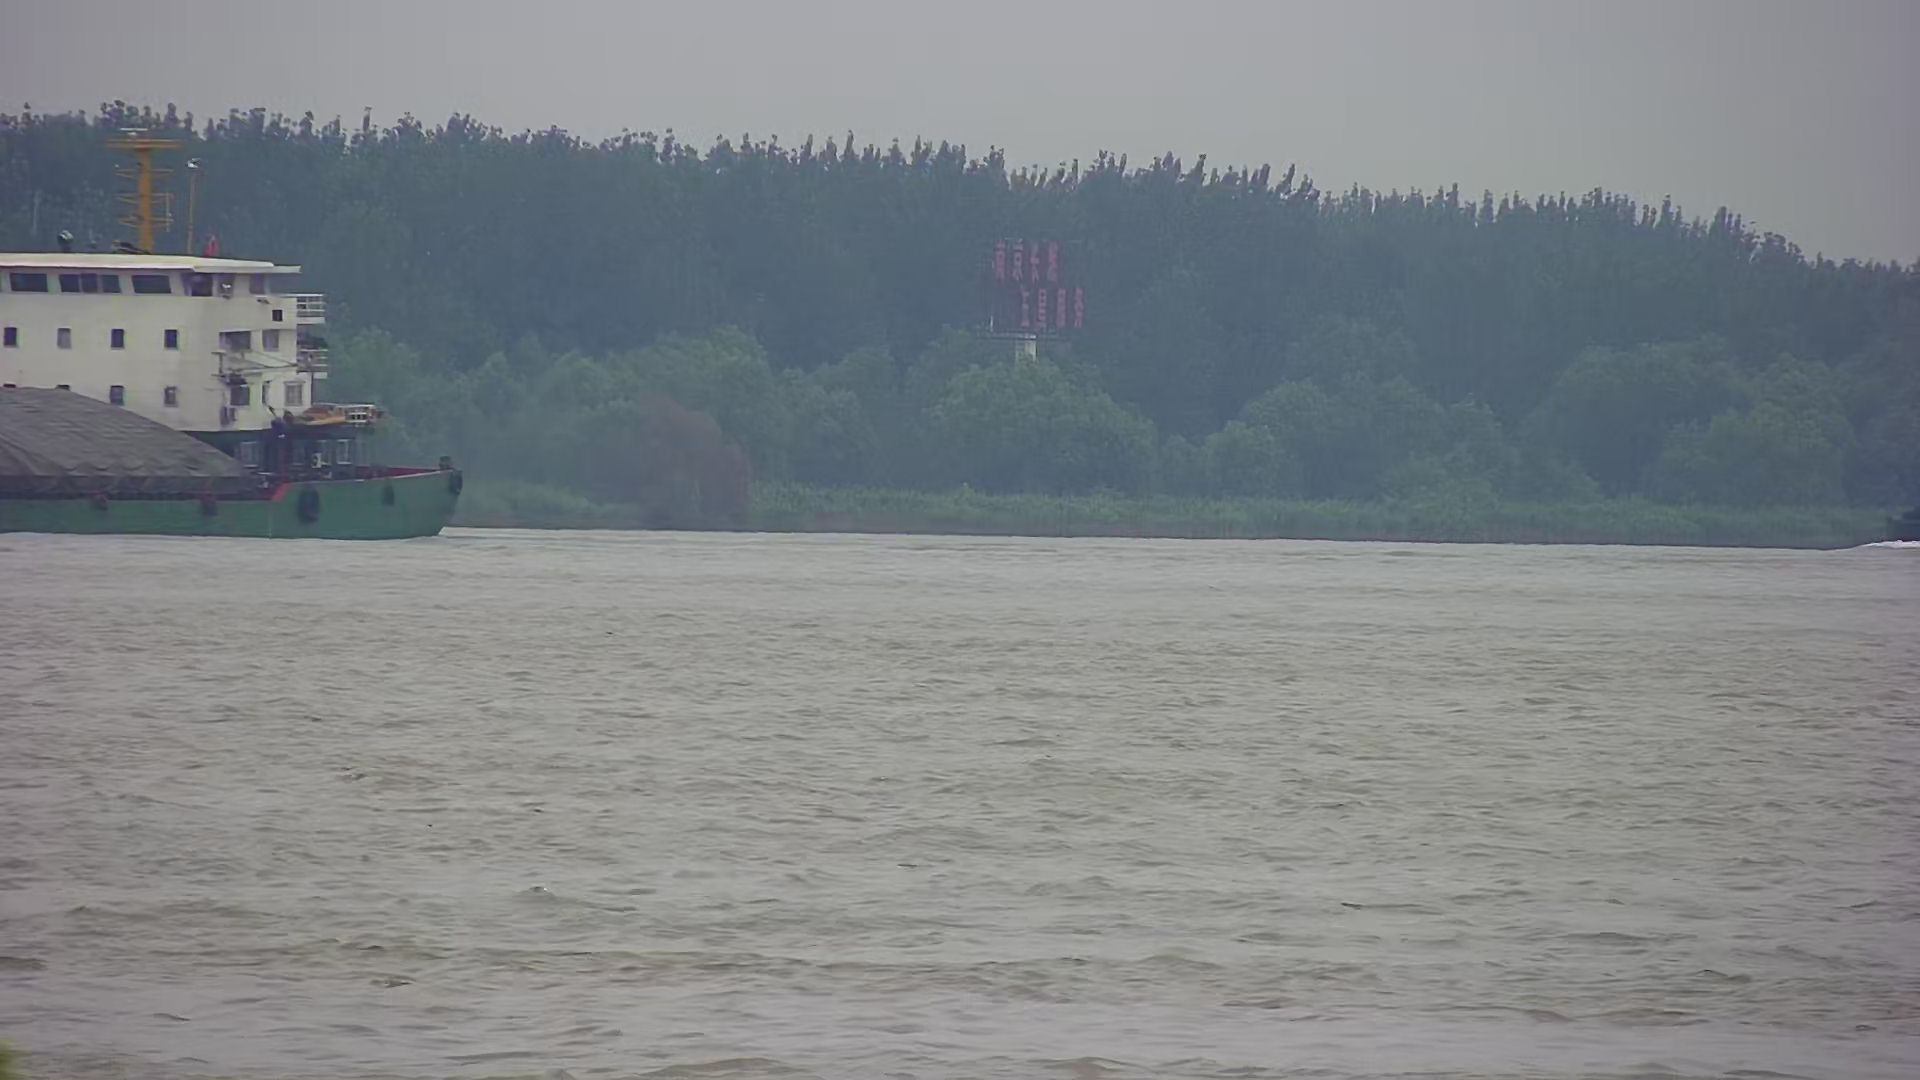ship: (1, 104, 465, 545)
